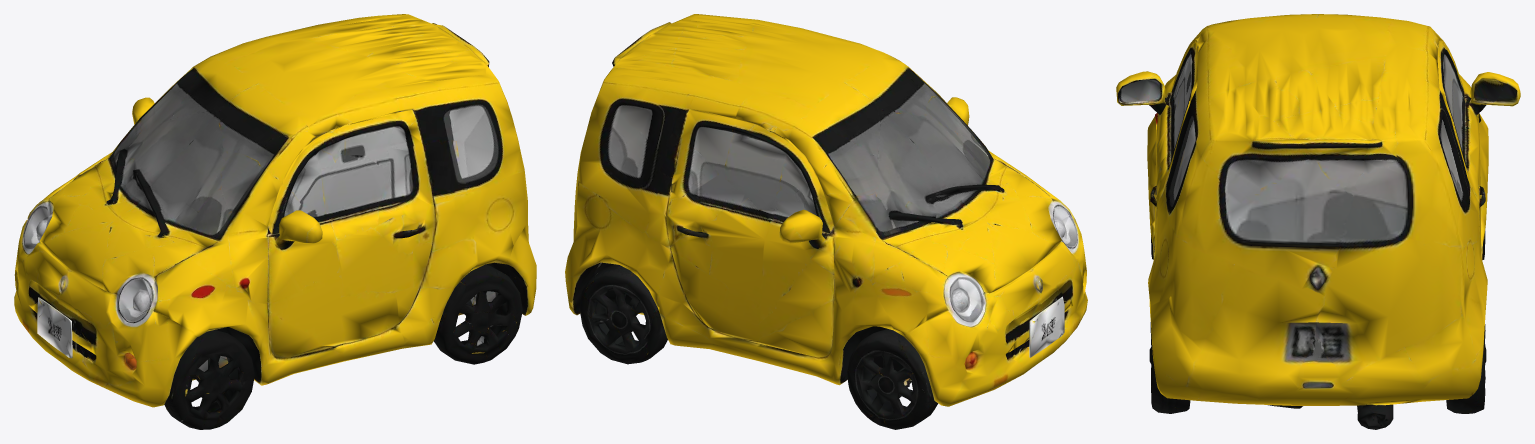
File: n_kei.glb
3 renders of one model, left to right at view 1: azimuth 30°, elevation 25°; view 2: azimuth 150°, elevation 25°; view 3: azimuth 270°, elevation 25°, orthographic. The views are drawn at different scales.
Bounding box in the file's own units: 1.9 × 1.13 × 1.33.
Materials: 1 (1 with a texture image).
